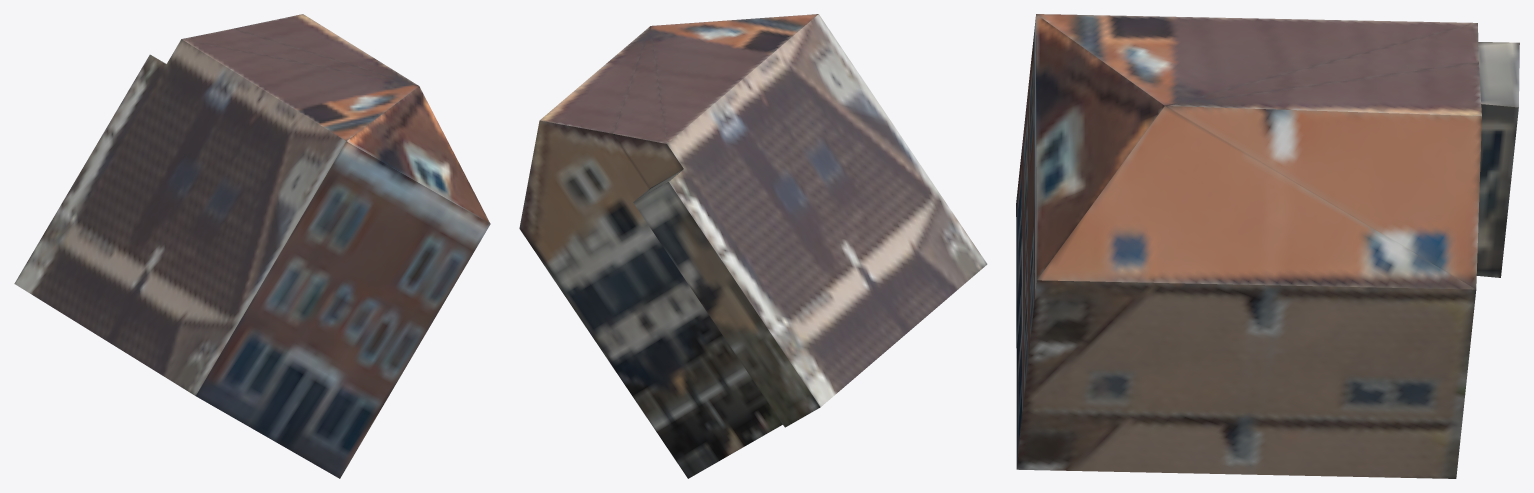
3 renders of one model, left to right at view 1: azimuth 30°, elevation 25°; view 2: azimuth 150°, elevation 25°; view 3: azimuth 270°, elevation 25°, orthographic. The views are drawn at different scales.
Parts seen in each view (by area): view 1: BAG_0599100000760393 (×3); view 2: BAG_0599100000760393 (×3); view 3: BAG_0599100000760393 (×4).
Boxes of the visible parts, x1,y1,x2,y2 form: BAG_0599100000760393 (×3): [14, 14, 490, 478]; BAG_0599100000760393 (×3): [519, 14, 987, 478]; BAG_0599100000760393 (×4): [1016, 14, 1519, 478].
Size of the model in its own units: 13.58 by 14.17 by 13.48.
3 materials, 3 textured.
